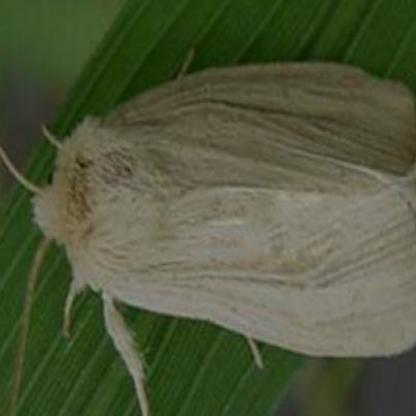stem-borer: (10, 56, 416, 401)
